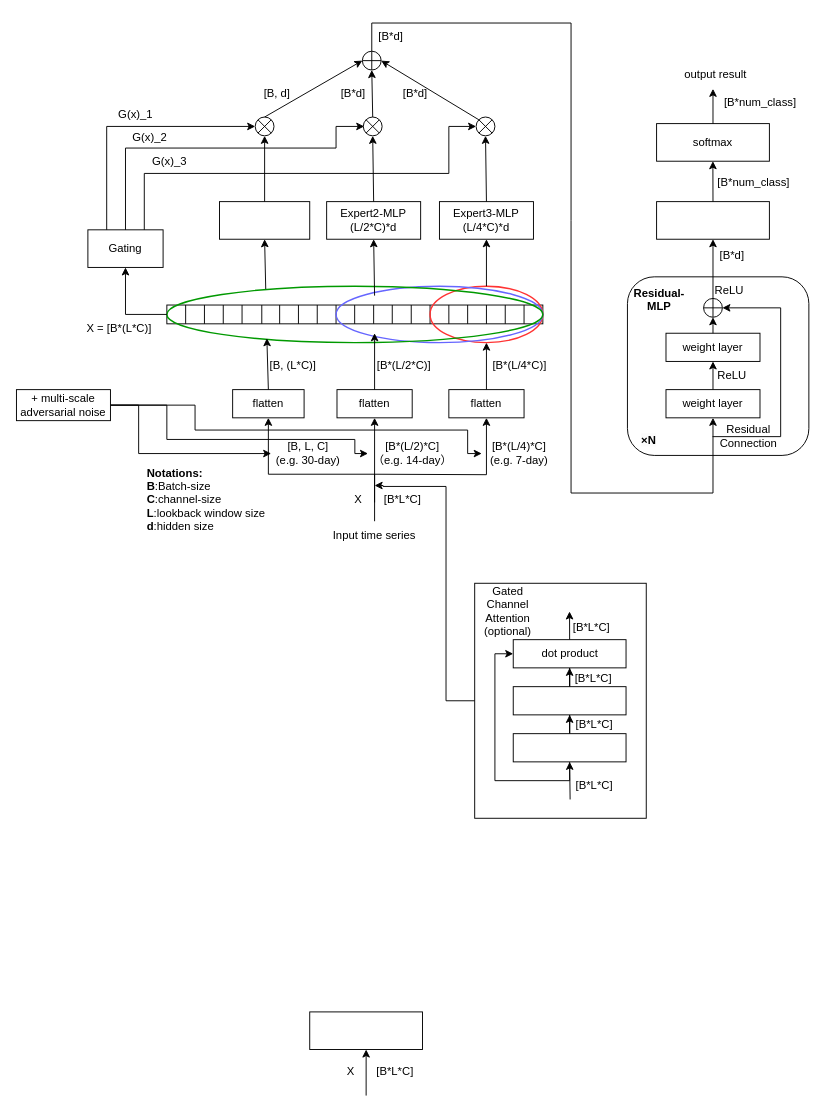
Some shapes in this 825 by 1120 pixel diagram are drawn without their labels. Each missing label, with the centre of its shape:
"Expert1-MLP (L*C)*d" goes at pixel 264 220.
"instance normalization" goes at pixel 366 1030.
"Linear - [C*C]" goes at pixel 569 747.
"Linear mapping" goes at pixel 712 220.
"softmax(dim=-1)" goes at pixel 569 700.
